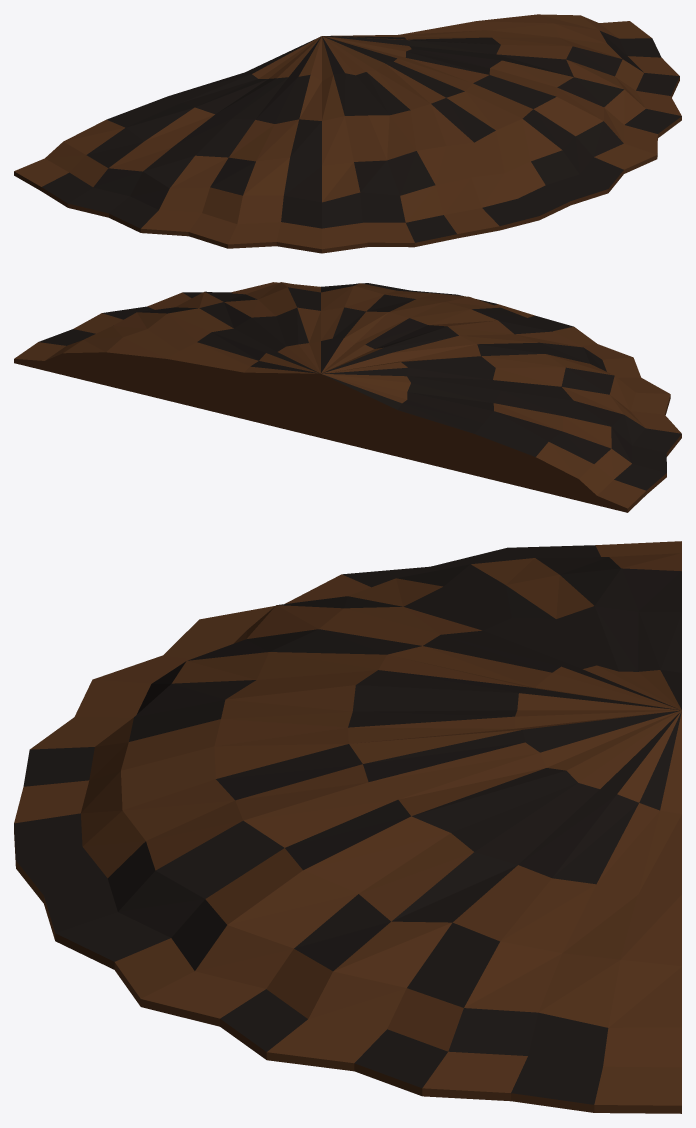
The model's file is BurntQutab.obj.
3 views of the same model, one above another, from view 1: azimuth 30°, elevation 25°; view 2: azimuth 150°, elevation 25°; view 3: azimuth 270°, elevation 25° (orthographic). The views are drawn at different scales.
Visible parts, largest first — view 1: BurntQutab; view 2: BurntQutab; view 3: BurntQutab.
Boxes of the visible parts, x1=… form: BurntQutab: x1=14, y1=14, x2=681, y2=253; BurntQutab: x1=14, y1=282, x2=681, y2=512; BurntQutab: x1=14, y1=541, x2=681, y2=1113.
Bounding box in the file's own units: 0.3 × 0.03 × 0.15.
